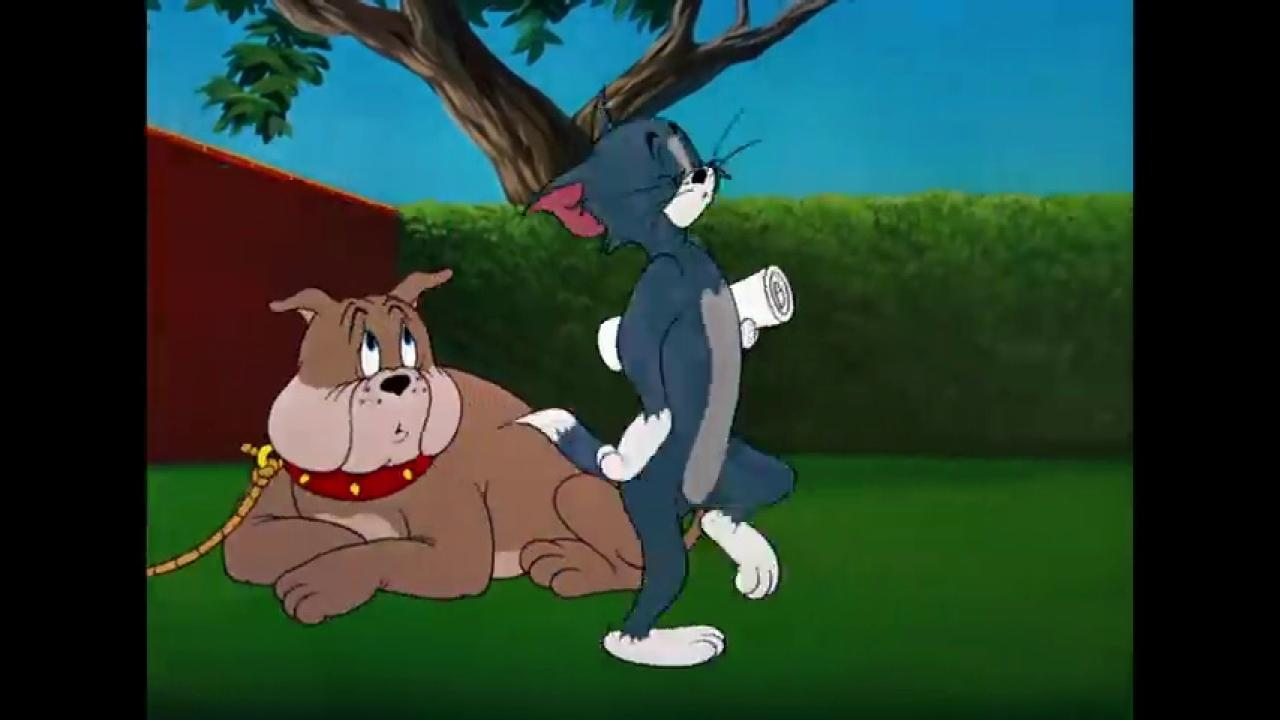Tom: (496, 87, 800, 669)
